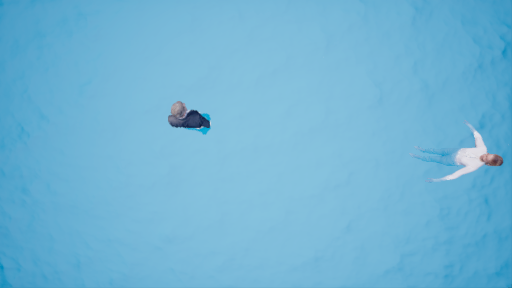person: (393, 125, 511, 185), (163, 90, 223, 140)
